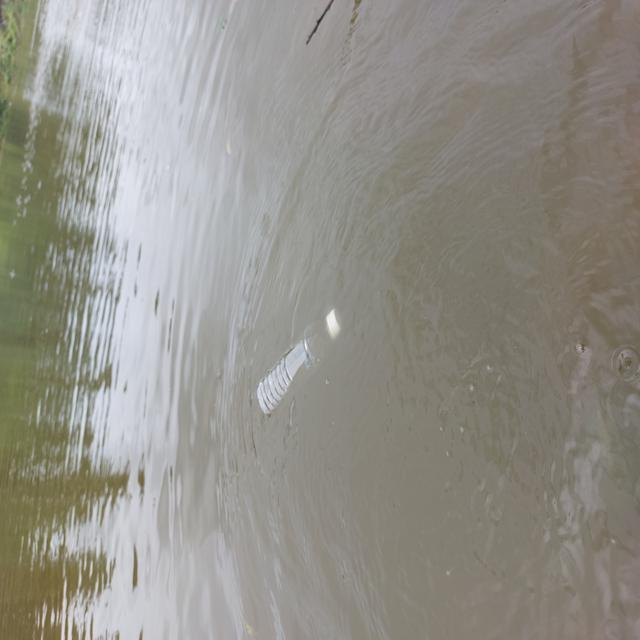waterbottle: (248, 297, 367, 427)
